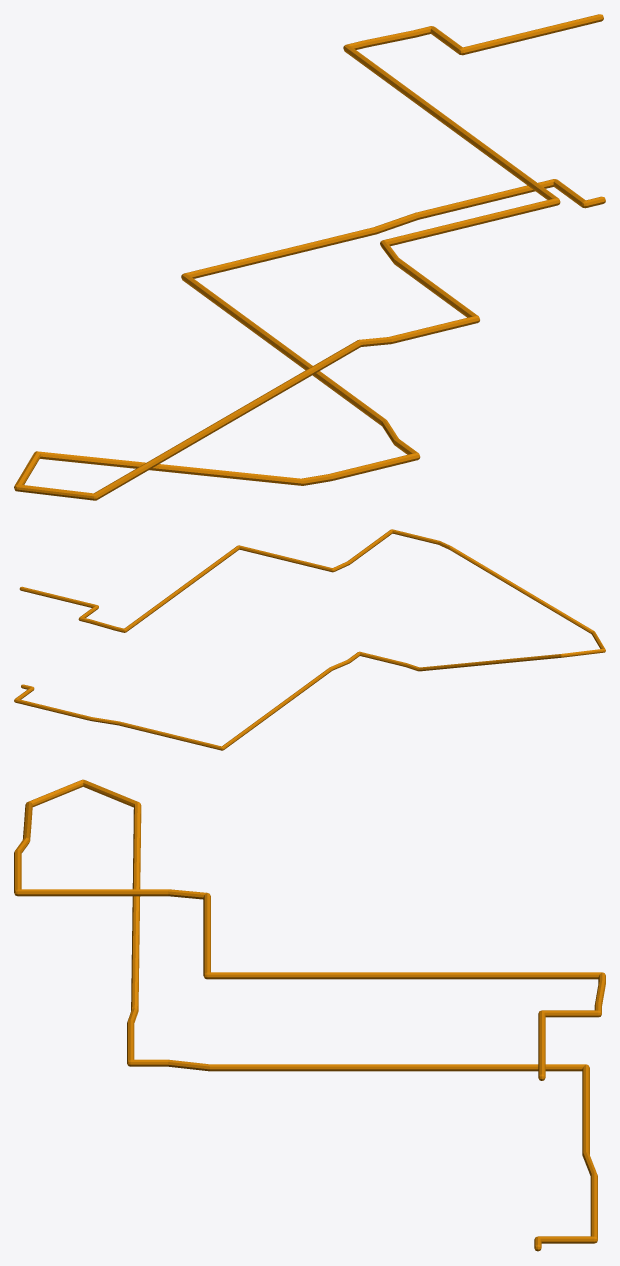
The picture shows the model from 3 angles, top to bottom: view 1: azimuth 30°, elevation 25°; view 2: azimuth 150°, elevation 25°; view 3: azimuth 270°, elevation 25°; orthographic projection. The views are drawn at different scales.
Bounding box in the file's own units: 2409 × 520 × 1574.
